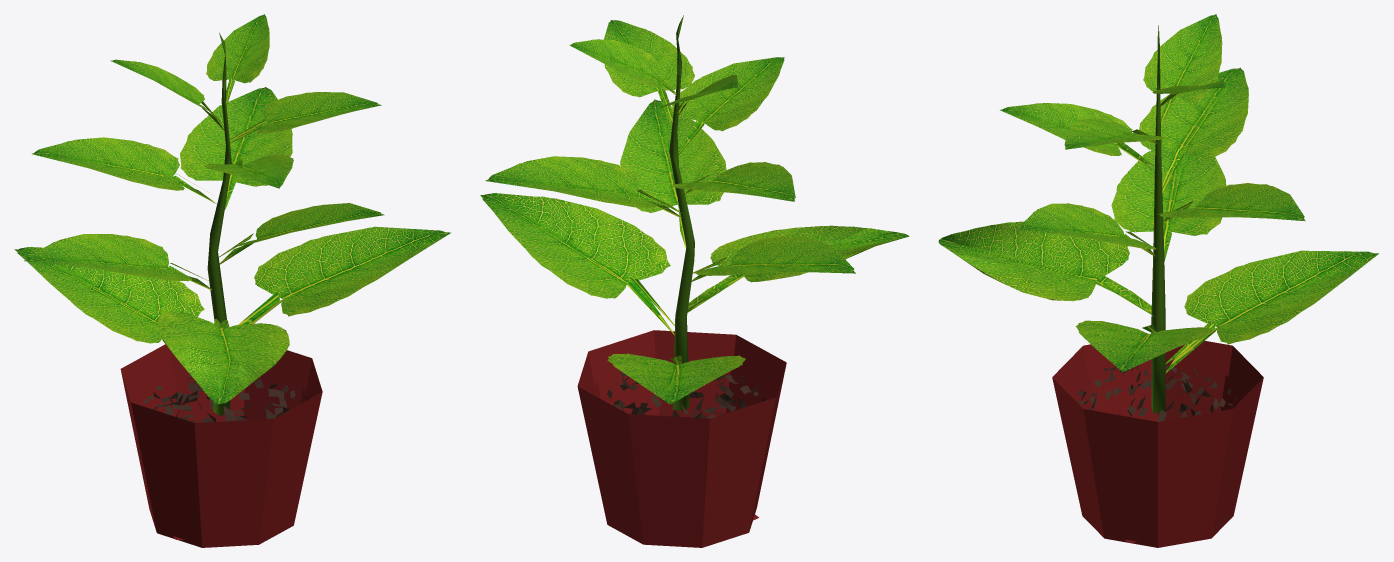
3 views of the same model, side by side, from view 1: azimuth 30°, elevation 25°; view 2: azimuth 150°, elevation 25°; view 3: azimuth 270°, elevation 25° (orthographic). The views are drawn at different scales.
Parts seen in each view (by area): view 1: Soil, Leaves.009, Leaves.000, Leaves.001, Leaves.007, Leaves.008, Leaves.005, Leaves.010, Leaves.011, Leaves.004, FLowerBark, Leaves.006 (+1 smaller); view 2: Soil, Leaves.009, Leaves.004, Leaves.007, Leaves.006, Leaves.008, Leaves.000, Leaves.001, Leaves.010, FLowerBark, Leaves.005, Leaves.011 (+1 smaller); view 3: Soil, Leaves.001, Leaves.000, Leaves.008, Leaves.005, Leaves.012, Leaves.009, Leaves.007, FLowerBark, Leaves.004, Leaves.006, Leaves.010 (+1 smaller).
Part boxes in pixels (x1,y1,x2,y2): Soil: [120, 344, 322, 547]; Leaves.009: [238, 226, 450, 324]; Leaves.000: [157, 311, 289, 404]; Leaves.001: [14, 247, 204, 343]; Leaves.007: [180, 87, 292, 209]; Leaves.008: [24, 234, 212, 290]; Leaves.005: [32, 137, 216, 203]; Leaves.010: [230, 92, 381, 143]; Leaves.011: [206, 14, 269, 105]; Leaves.004: [218, 203, 384, 265]; FLowerBark: [207, 32, 231, 415]; Leaves.006: [203, 154, 293, 188]; Soil: [577, 330, 786, 547]; Leaves.009: [480, 193, 674, 334]; Leaves.004: [620, 99, 726, 247]; Leaves.007: [485, 156, 683, 217]; Leaves.006: [672, 57, 784, 155]; Leaves.008: [691, 236, 855, 281]; Leaves.000: [687, 225, 909, 312]; Leaves.001: [607, 353, 745, 404]; Leaves.010: [604, 20, 694, 125]; FLowerBark: [669, 15, 694, 411]; Leaves.005: [672, 162, 795, 201]; Leaves.011: [569, 39, 676, 95]; Soil: [1052, 341, 1263, 547]; Leaves.001: [1165, 250, 1378, 373]; Leaves.000: [938, 221, 1154, 316]; Leaves.008: [1111, 150, 1226, 261]; Leaves.005: [1139, 67, 1248, 193]; Leaves.012: [1143, 14, 1222, 124]; Leaves.009: [1075, 320, 1212, 371]; Leaves.007: [1158, 183, 1305, 221]; FLowerBark: [1151, 25, 1165, 413]; Leaves.004: [1019, 203, 1156, 256]; Leaves.006: [1000, 103, 1154, 170]; Leaves.010: [1064, 118, 1164, 149].
Bounding box in the file's own units: 2.06 × 2.42 × 1.97.
Materials: 4 (1 with a texture image).
